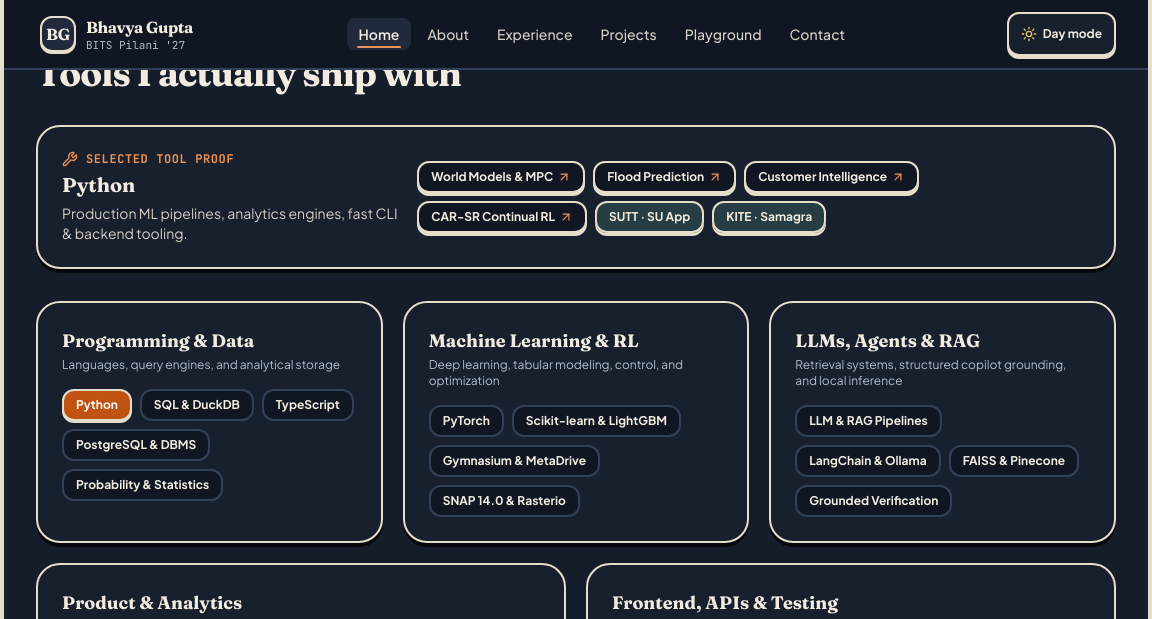
Test case: Bhavya Gupta Portfolio › cross-links skills in the workbench to verified projects
The image size is (1152, 619).
Click the button "SQL & DuckDB": x=197, y=405 [140,389,254,421]
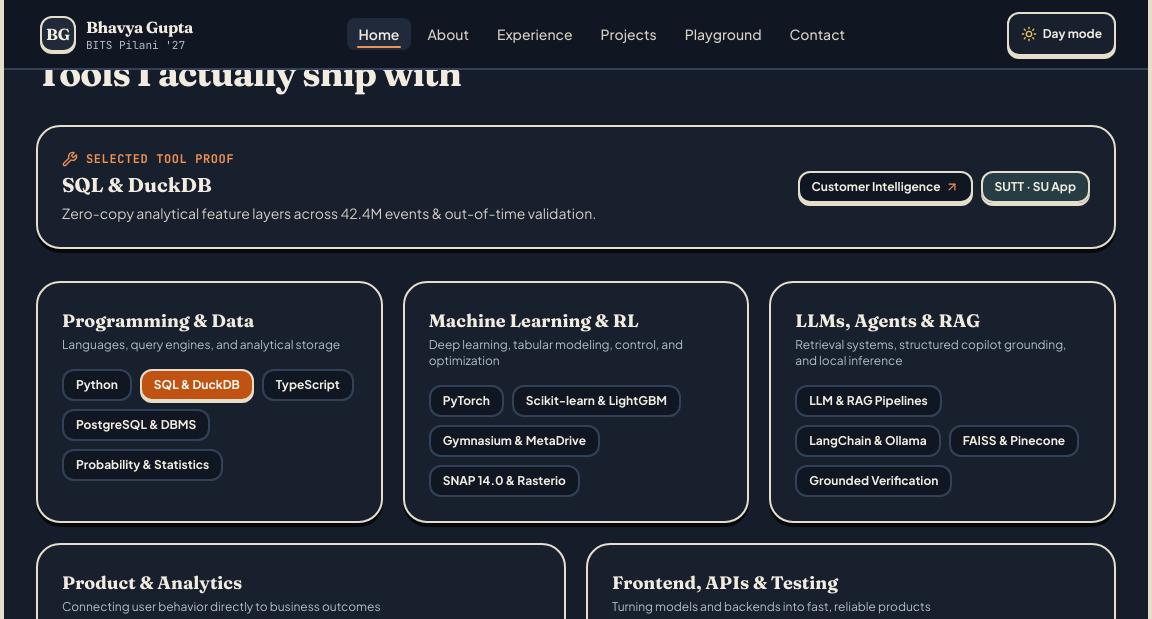
Check: the button "Customer Intelligence" is shown, box [798,171,973,203]
Check: the heading "SQL & DuckDB" is shown, box [62,172,212,197]
